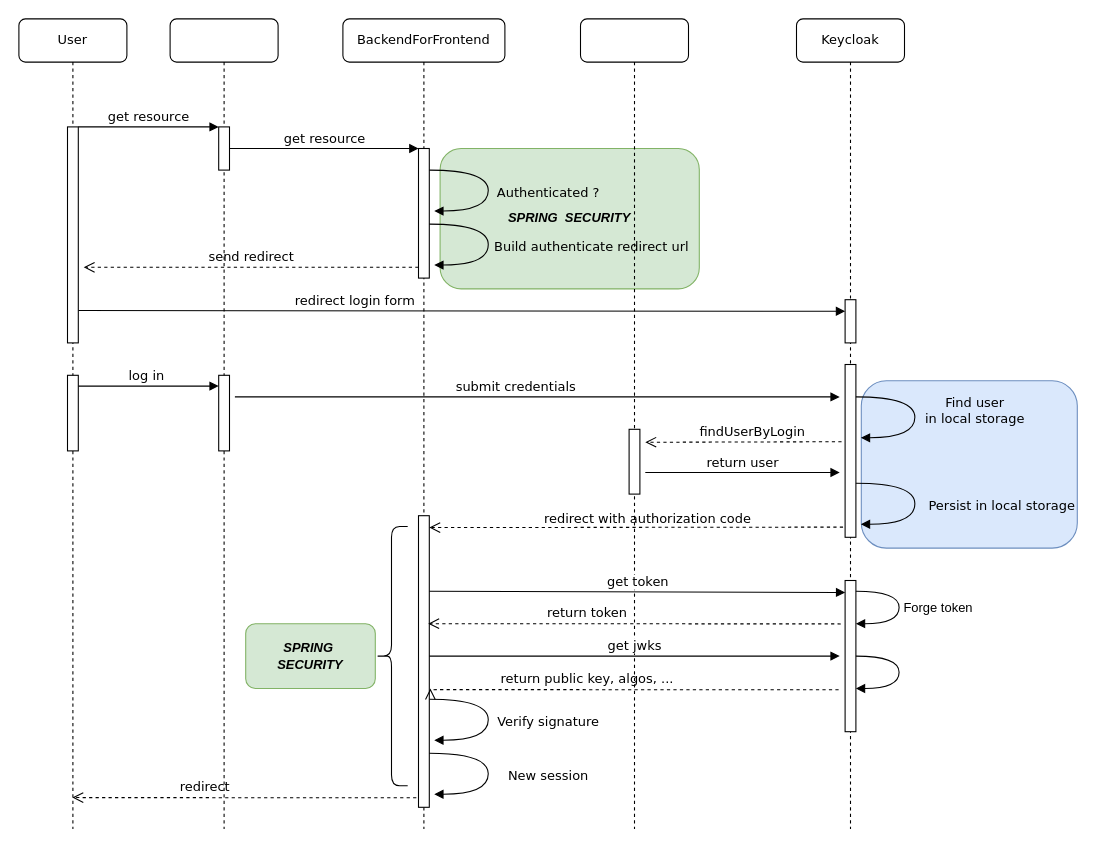
The diagram is 1096 pixels wide and 848 high, and some of its shapes have lost their labels. Each missing label, with the centre of its shape:
"Business Services" belongs at (633,423).
"Front-End" belongs at (223,423).
"SPI API" belongs at (968,464).
